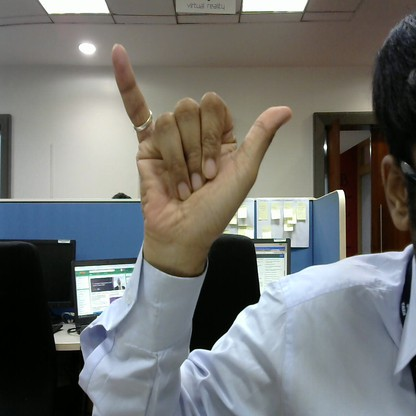y: (106, 37, 299, 257)
